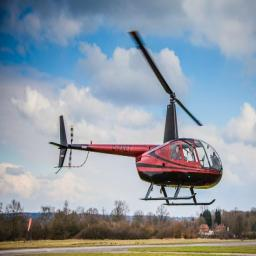helicopter: (54, 29, 227, 207)
